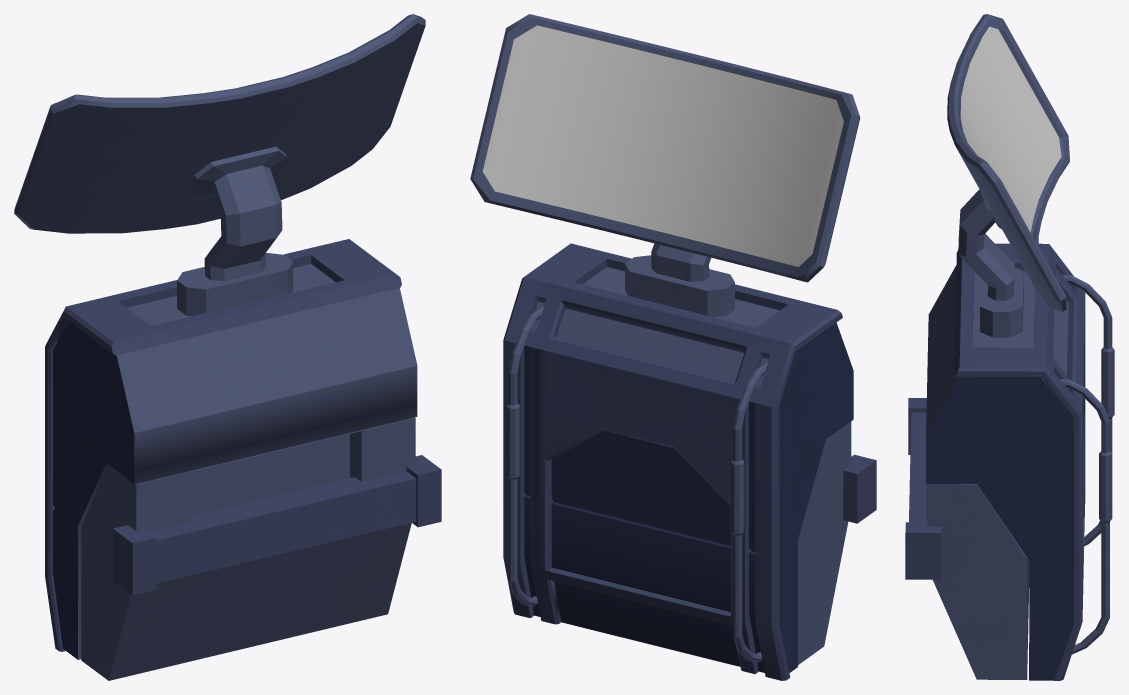
The model's file is monitor.fbx.
The picture shows the model from 3 angles, left to right: view 1: azimuth 30°, elevation 25°; view 2: azimuth 150°, elevation 25°; view 3: azimuth 270°, elevation 25°; orthographic projection. The views are drawn at different scales.
Parts seen in each view (by area): view 1: polySurface2848; view 2: polySurface2848, polySurface2857; view 3: polySurface2848, polySurface2857.
Boxes of the visible parts, x1=… form: polySurface2848: x1=14, y1=14, x2=441, y2=680; polySurface2848: x1=470, y1=14, x2=876, y2=680; polySurface2857: x1=482, y1=25, x2=843, y2=266; polySurface2848: x1=905, y1=14, x2=1114, y2=680; polySurface2857: x1=960, y1=26, x2=1061, y2=232.
Size of the model in its own units: 32.51 by 49.08 by 17.51.
